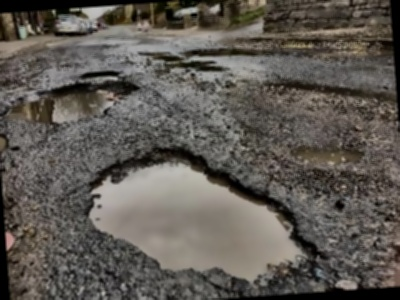pothole: (80, 132, 324, 296), (2, 77, 145, 126), (289, 139, 368, 171), (80, 67, 125, 81), (0, 132, 10, 153)
